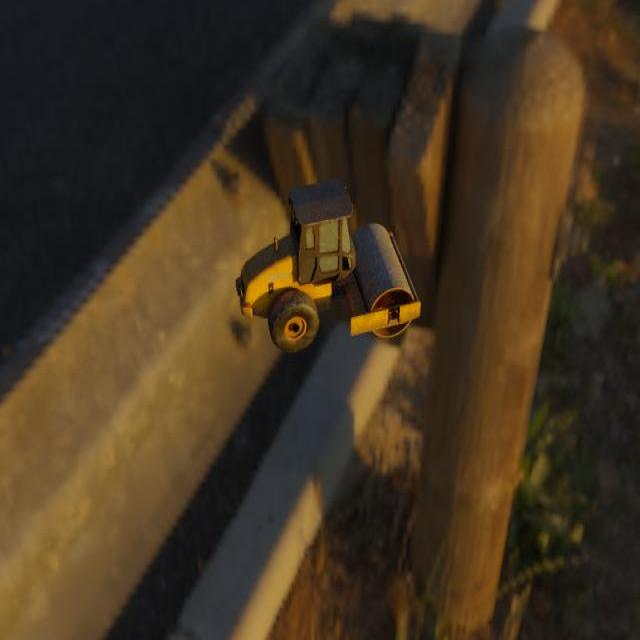Roller: (234, 178, 421, 354)
